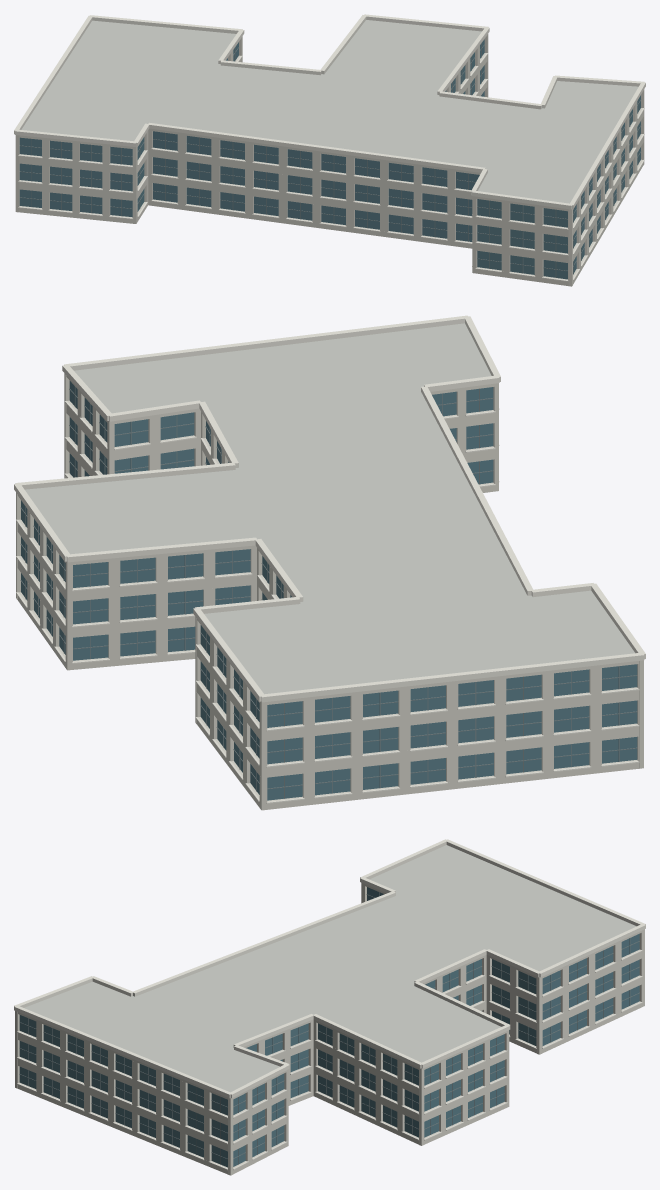
The picture shows the model from 3 angles, top to bottom: view 1: azimuth 30°, elevation 25°; view 2: azimuth 150°, elevation 25°; view 3: azimuth 270°, elevation 25°; orthographic projection. The views are drawn at different scales.
Parts seen in each view (by area): view 1: roof, wall, glass, trim, metal; view 2: roof, wall, glass, trim, metal; view 3: roof, wall, glass, trim, metal.
Part boxes in pixels (x1,y1,x2,y2): roof: (21, 20, 638, 203); wall: (15, 34, 644, 286); glass: (19, 39, 640, 279); trim: (14, 14, 645, 281); metal: (19, 43, 641, 277); roof: (25, 323, 634, 694); wall: (16, 373, 643, 810); glass: (21, 381, 637, 800); trim: (14, 315, 645, 803); metal: (20, 386, 637, 798); roof: (24, 845, 636, 1092); wall: (15, 882, 644, 1175); glass: (19, 887, 639, 1167); trim: (14, 839, 645, 1170); metal: (19, 892, 639, 1164).
Size of the model in its own units: 65.52 by 9.74 by 68.5.
